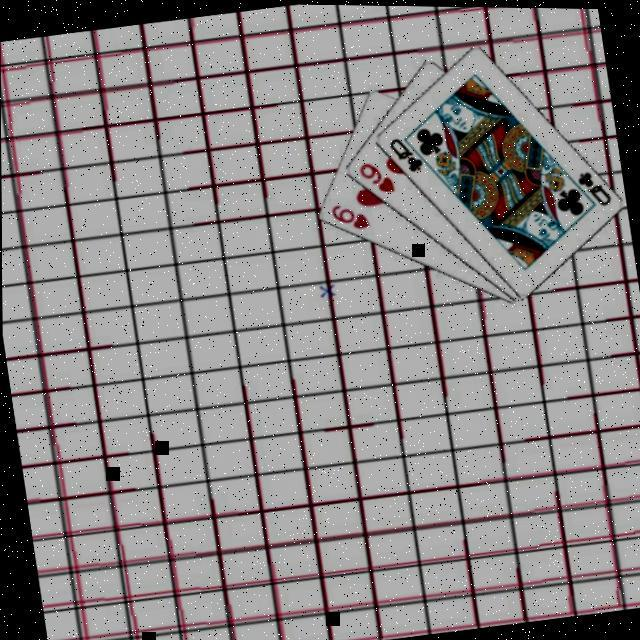6H: (327, 195, 373, 234)
9H: (355, 154, 398, 198)
QC: (386, 128, 427, 175), (573, 162, 614, 209)
